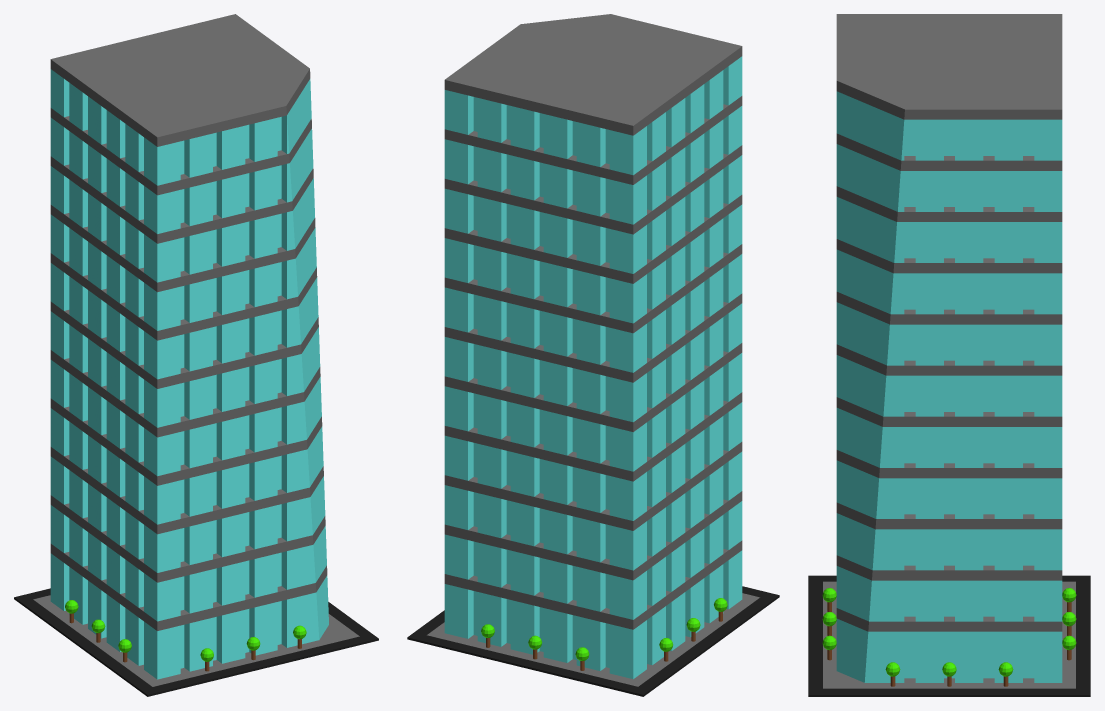
File: skyscraper1d_shouldhavecolors.FBX
3 views of the same model, side by side, from view 1: azimuth 30°, elevation 25°; view 2: azimuth 150°, elevation 25°; view 3: azimuth 270°, elevation 25° (orthographic). The views are drawn at different scales.
Visible parts, largest first — view 1: Layer:windows, Layer:bldgconcrete, Layer:street, Layer:greenery; view 2: Layer:windows, Layer:bldgconcrete, Layer:street, Layer:greenery; view 3: Layer:windows, Layer:bldgconcrete, Layer:street, Layer:greenery, Layer:wood.
Boxes of the visible parts, left/top/right/bottom form: Layer:windows: left=50, top=69, right=328, bottom=679; Layer:bldgconcrete: left=33, top=14, right=359, bottom=686; Layer:street: left=14, top=588, right=378, bottom=696; Layer:greenery: left=65, top=600, right=306, bottom=661; Layer:windows: left=444, top=56, right=742, bottom=679; Layer:bldgconcrete: left=427, top=14, right=759, bottom=686; Layer:street: left=407, top=586, right=779, bottom=696; Layer:greenery: left=481, top=598, right=727, bottom=661; Layer:windows: left=836, top=91, right=1062, bottom=682; Layer:bldgconcrete: left=823, top=14, right=1075, bottom=688; Layer:street: left=808, top=575, right=1090, bottom=696; Layer:greenery: left=822, top=588, right=1076, bottom=676; Layer:wood: left=827, top=602, right=1071, bottom=686.
Bounding box in the file's own units: 4000 × 8992 × 4000.
